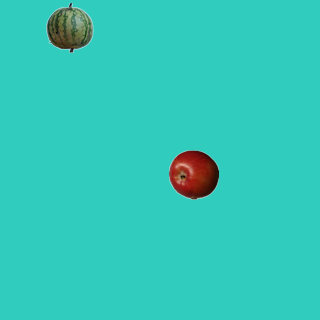Apple Braeburn: (168, 149, 218, 199)
Watermelon: (44, 2, 94, 52)
